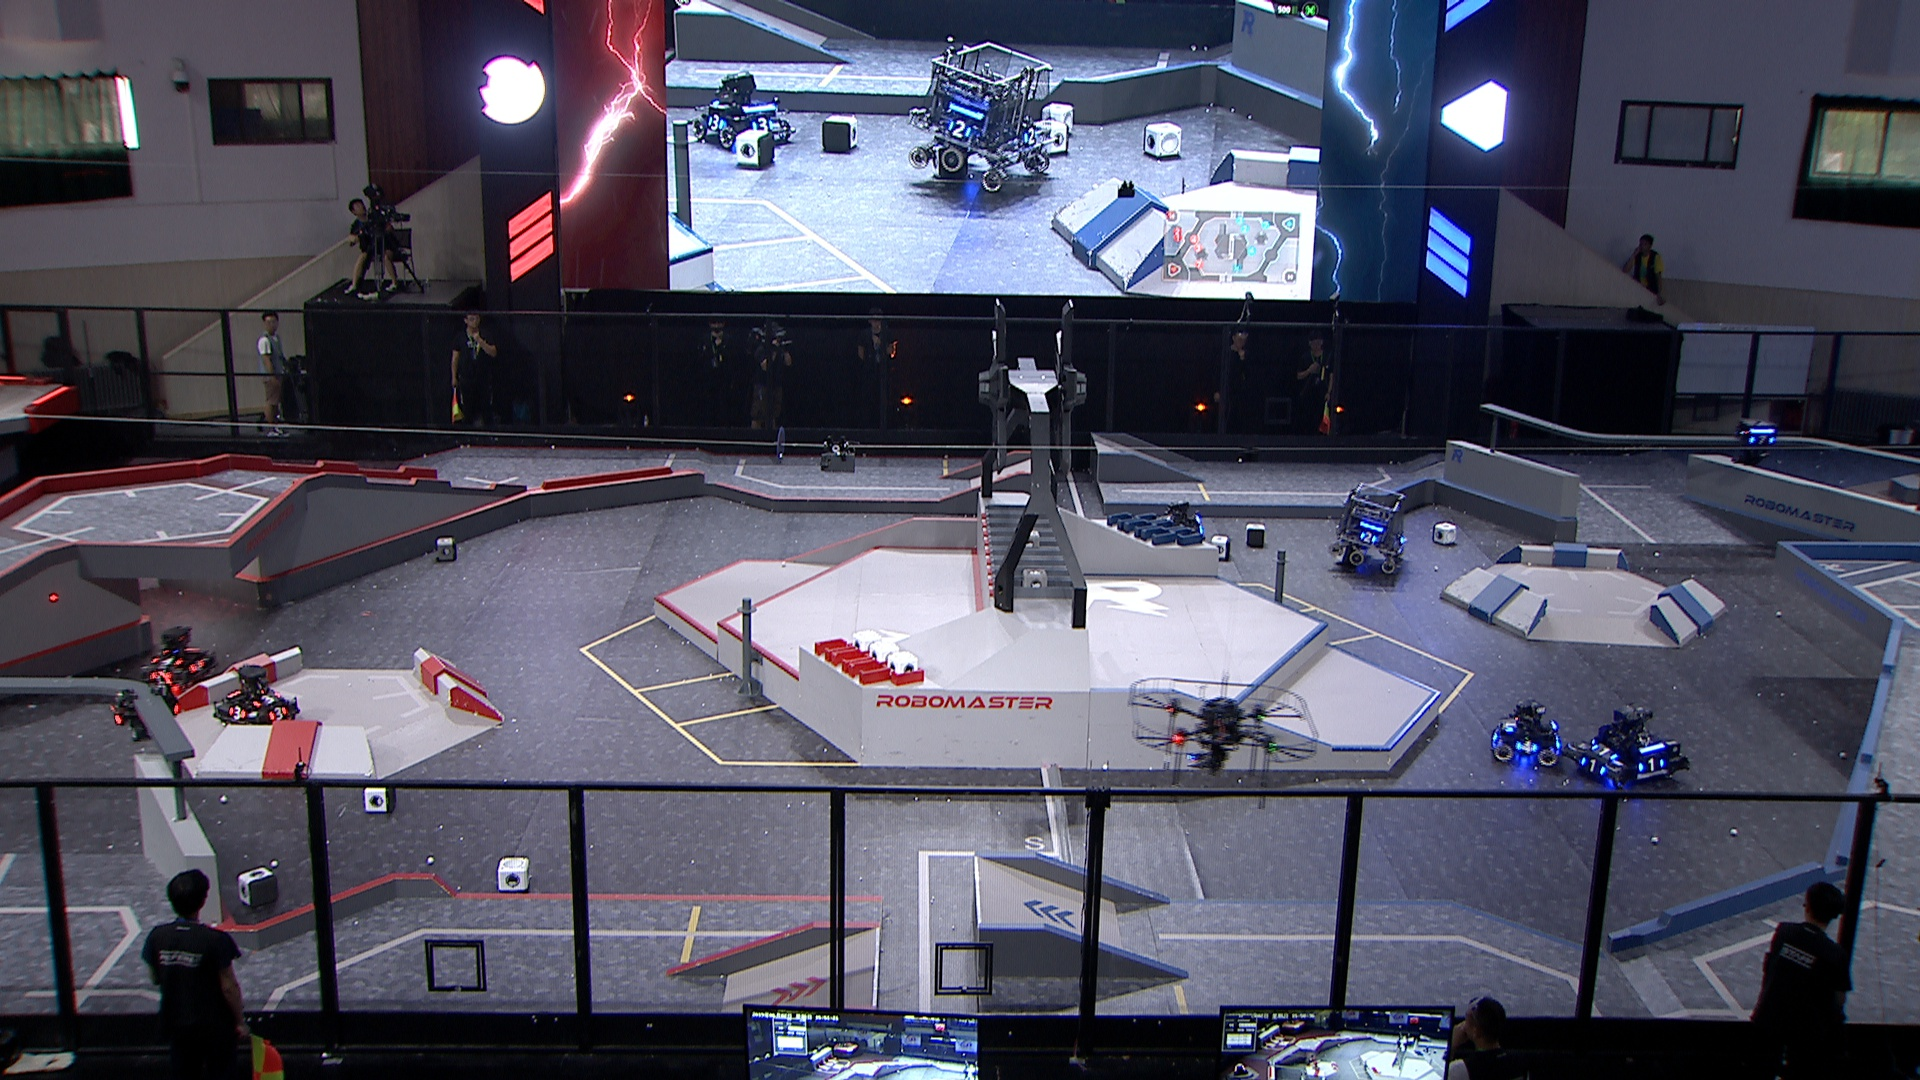armor: (1575, 756, 1610, 775), (1636, 756, 1667, 774), (1589, 744, 1621, 760), (225, 704, 249, 725), (149, 657, 186, 670), (252, 692, 282, 707), (266, 705, 291, 721), (1513, 741, 1539, 756), (1746, 434, 1775, 446), (187, 659, 207, 674), (1501, 719, 1518, 735), (1361, 531, 1381, 543)
car: (1564, 704, 1689, 798), (1328, 480, 1416, 578), (214, 662, 302, 732), (138, 622, 219, 694), (1486, 699, 1565, 767), (1149, 498, 1207, 547)
ignore: (903, 38, 1055, 190), (690, 69, 794, 148)
watcher: (109, 673, 183, 740), (1733, 415, 1784, 467)
